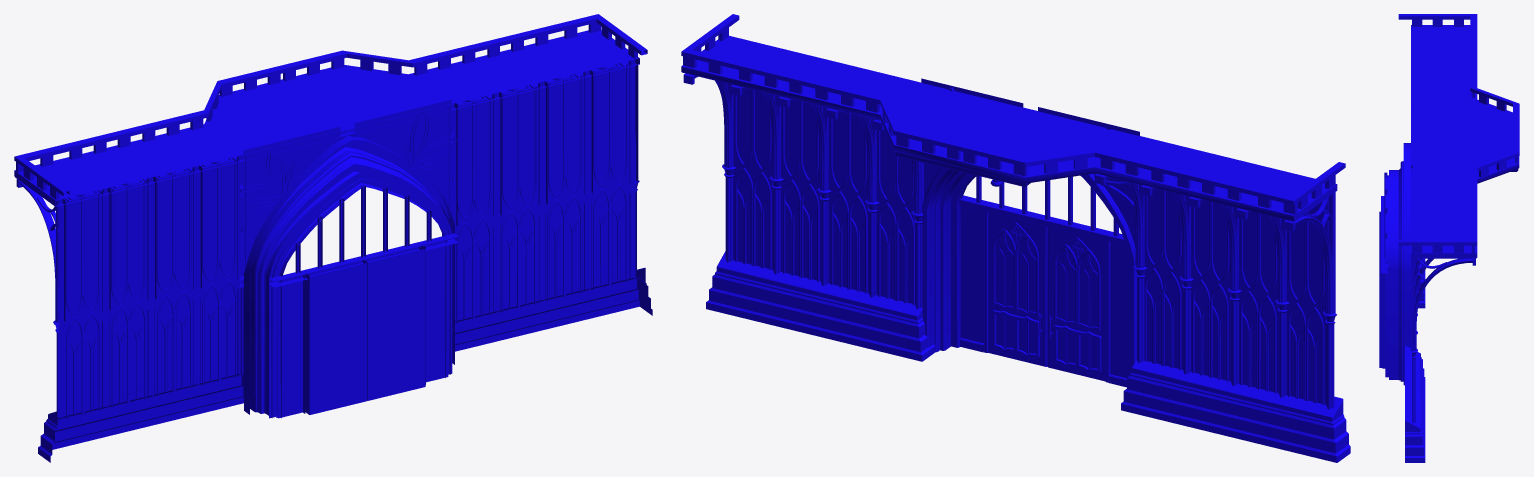
File: Gate.FBX
3 views of the same model, side by side, from view 1: azimuth 30°, elevation 25°; view 2: azimuth 150°, elevation 25°; view 3: azimuth 270°, elevation 25° (orthographic). The views are drawn at different scales.
Parts seen in each view (by area): view 1: Object061; view 2: Object061; view 3: Object061.
Boxes of the visible parts, x1,y1,x2,y2 form: Object061: (14, 14, 652, 462); Object061: (681, 14, 1350, 462); Object061: (1379, 14, 1519, 462).
Bounding box in the file's own units: 1842 × 793 × 465.
